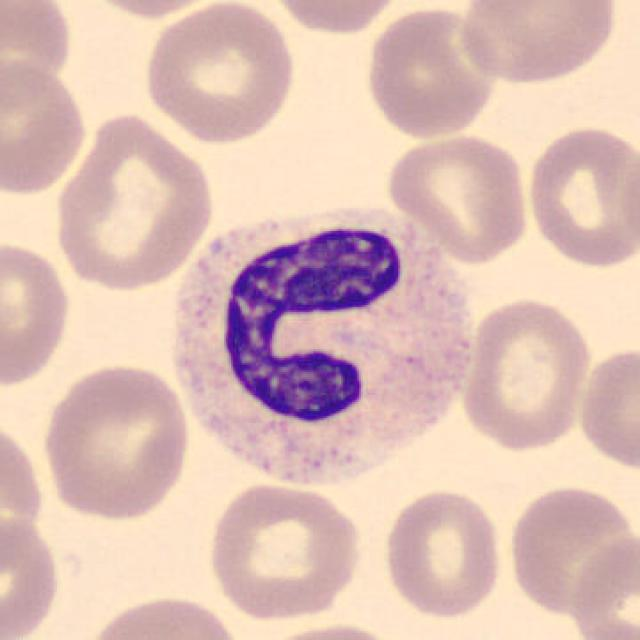Lymphocyte: (160, 194, 475, 497)
Neutrophil: (160, 194, 475, 497)
RBC: (48, 108, 219, 292), (37, 360, 194, 524), (203, 478, 366, 622), (138, 0, 298, 145), (457, 293, 594, 453), (382, 130, 534, 266), (361, 3, 499, 143), (503, 480, 637, 617), (378, 484, 506, 620), (523, 120, 638, 271), (455, 0, 622, 86), (0, 56, 91, 198), (0, 236, 75, 393), (574, 340, 640, 474), (0, 506, 64, 640), (563, 529, 640, 640), (0, 0, 76, 111), (80, 590, 247, 640), (0, 411, 48, 582), (261, 0, 411, 37), (73, 0, 233, 21), (249, 620, 407, 640)
